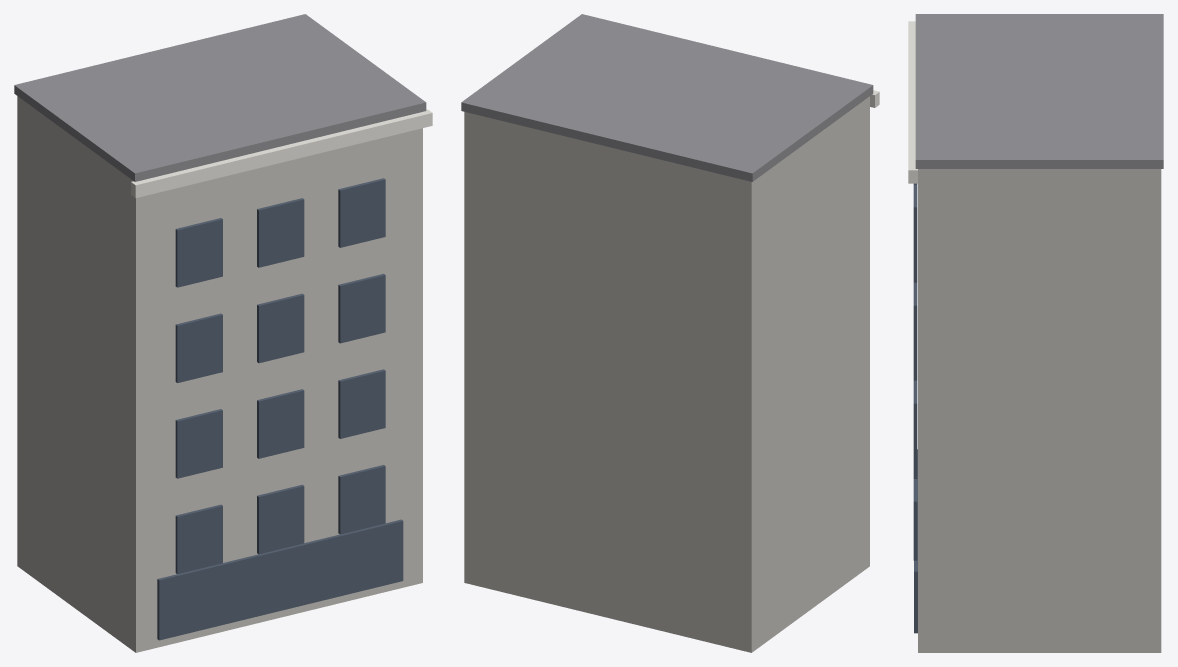
The model's file is Facade_Mid_B.glb.
The picture shows the model from 3 angles, left to right: view 1: azimuth 30°, elevation 25°; view 2: azimuth 150°, elevation 25°; view 3: azimuth 270°, elevation 25°; orthographic projection. The views are drawn at different scales.
Parts seen in each view (by area): view 1: Facade_Mid_B; view 2: Facade_Mid_B; view 3: Facade_Mid_B.
Part boxes in pixels (x1,y1,x2,y2): Facade_Mid_B: [14, 14, 432, 652]; Facade_Mid_B: [461, 14, 879, 652]; Facade_Mid_B: [908, 14, 1163, 652].
Size of the model in its own units: 7.24 by 11.2 by 5.25.
